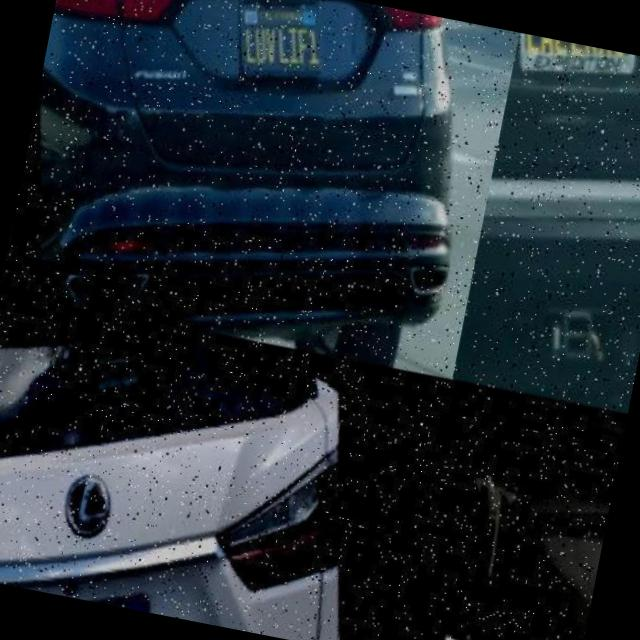LicensePlate: (505, 32, 640, 127), (402, 576, 589, 640), (223, 0, 343, 88), (40, 569, 180, 618)
